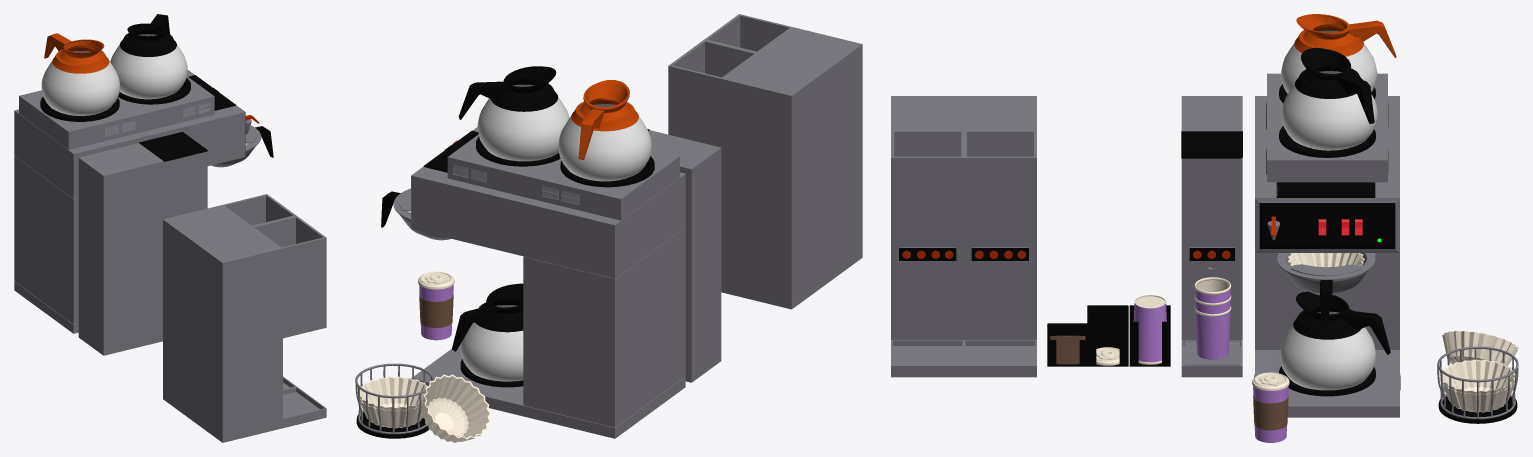
The model's file is CoffeeMachine.fbx.
3 views of the same model, side by side, from view 1: azimuth 30°, elevation 25°; view 2: azimuth 150°, elevation 25°; view 3: azimuth 270°, elevation 25° (orthographic). The views are drawn at different scales.
Parts seen in each view (by area): view 1: SugarDispensar.001, SugarDispensar, CoffeeBase, SugarDispensar.002, TopBunrerHolder, TeaPot, CoffeePot_2, TeaPotFrame, PotFrame_2, SugarDispensarLid, RearBurner, FrontBurner (+3 smaller); view 2: CoffeeBase, SugarDispensar.002, SugarDispensar.001, SugarDispensar, TopBunrerHolder, CoffeePot_2, TeaPot, Filter.003, CoffeePot_1, PotFrame_2, TeaPotFrame, FilterHolder (+14 smaller); view 3: CoffeeBase, SugarDispensar.001, SugarDispensar.002, SugarDispensar, TopBunrerHolder, CoffeePot_1, CoffeePot_2, FilterHolder, PotFrame_2, LidHolder, FilterTray, TeaPotFrame (+21 smaller).
Boxes of the visible parts, x1,y1,x2,y2 form: SugarDispensar.001: (192, 216, 326, 442); SugarDispensar: (78, 143, 207, 355); CoffeeBase: (14, 70, 245, 333); SugarDispensar.002: (163, 194, 296, 420); TopBunrerHolder: (19, 76, 214, 149); TeaPot: (41, 51, 119, 115); CoffeePot_2: (110, 34, 187, 99); TeaPotFrame: (52, 39, 109, 73); PotFrame_2: (120, 23, 176, 56); SugarDispensarLid: (138, 132, 207, 161); RearBurner: (40, 96, 119, 121); FrontBurner: (118, 78, 190, 104); CoffeeBase: (411, 127, 685, 438); SugarDispensar.002: (668, 40, 827, 309); SugarDispensar.001: (704, 14, 862, 283); SugarDispensar: (648, 130, 721, 382); TopBunrerHolder: (447, 134, 679, 220); CoffeePot_2: (477, 84, 569, 161); TeaPot: (558, 104, 651, 181); Filter.003: (422, 374, 491, 442); CoffeePot_1: (460, 305, 523, 381); PotFrame_2: (491, 66, 558, 111); TeaPotFrame: (571, 80, 638, 131); FilterHolder: (355, 363, 434, 438); CoffeeBase: (1254, 96, 1400, 417); SugarDispensar.001: (891, 96, 964, 377); SugarDispensar.002: (963, 96, 1036, 377); SugarDispensar: (1181, 96, 1242, 377); TopBunrerHolder: (1266, 73, 1388, 182); CoffeePot_1: (1280, 311, 1375, 390); CoffeePot_2: (1281, 71, 1377, 150); FilterHolder: (1437, 346, 1518, 423); PotFrame_2: (1295, 47, 1362, 98); LidHolder: (1087, 305, 1128, 366); FilterTray: (1277, 253, 1375, 295); TeaPotFrame: (1294, 14, 1363, 56).
Bounding box in the file's own units: 265 × 291 × 519.
